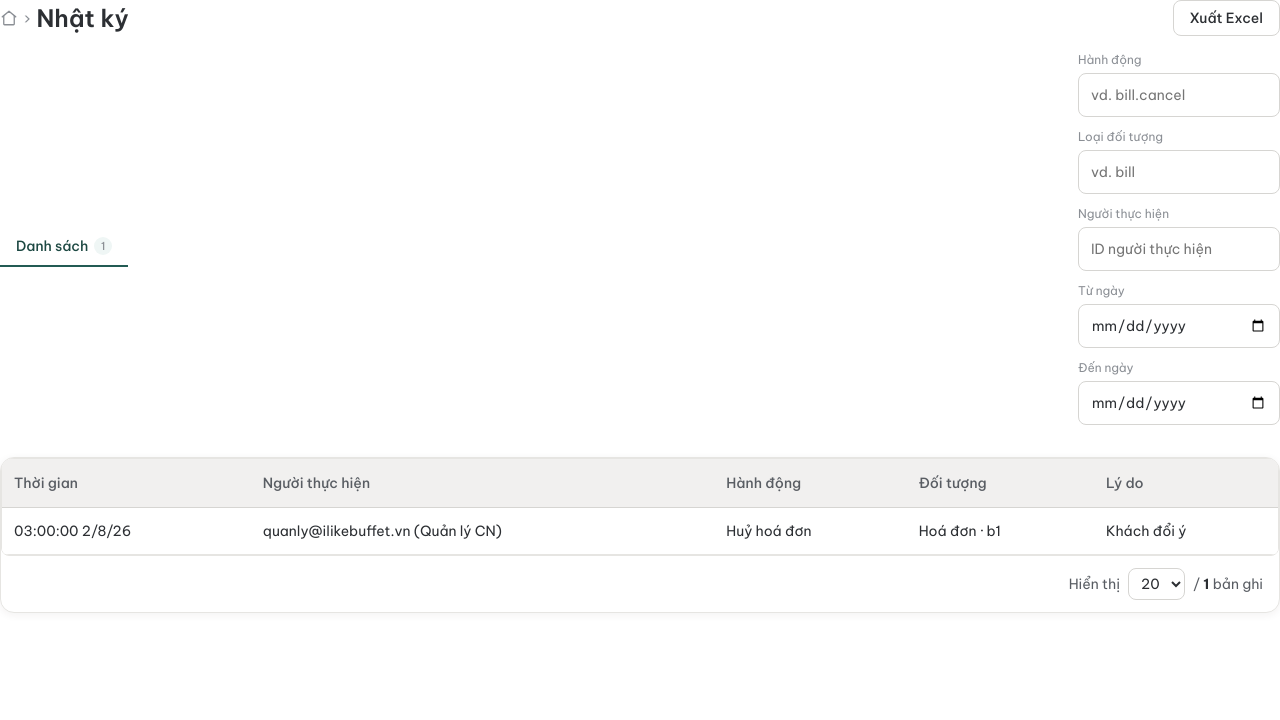
Test: AuditPage › opens a before/after detail drawer
Click the text "Huỷ hoá đơn": (810, 530) [714, 507, 907, 554]
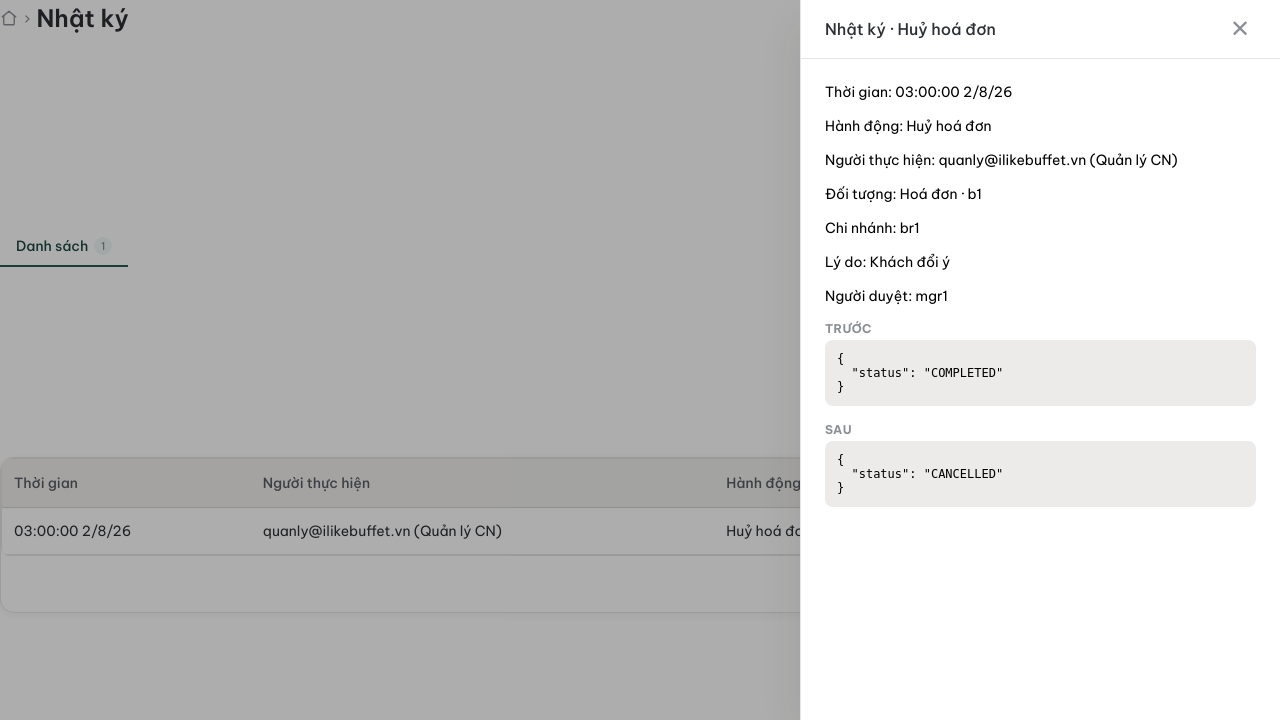
Result: the dialog "Nhật ký · Huỷ hoá đơn" is shown at [800, 0, 1279, 719]
Result: the text "{ \"status\": \"COMPLETED\" }" is shown at [825, 340, 1256, 406]
Result: the text "{ \"status\": \"CANCELLED\" }" is shown at [825, 441, 1256, 507]
